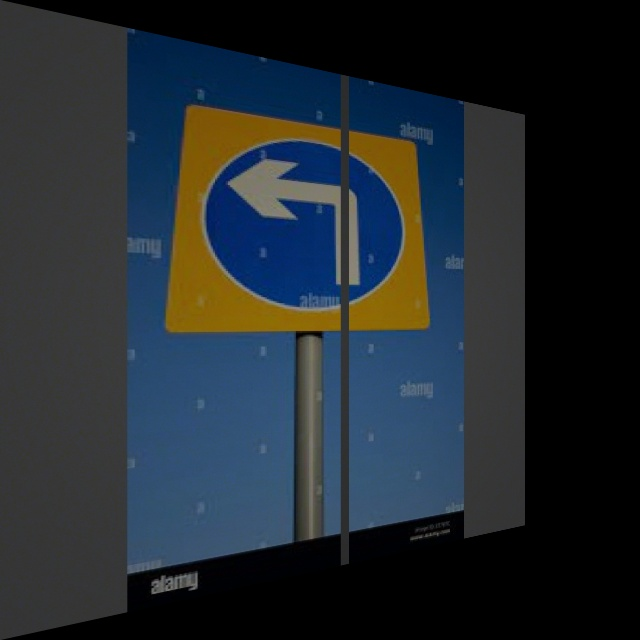Compulsory_Turn_Left_Ahead: (199, 118, 413, 319)
